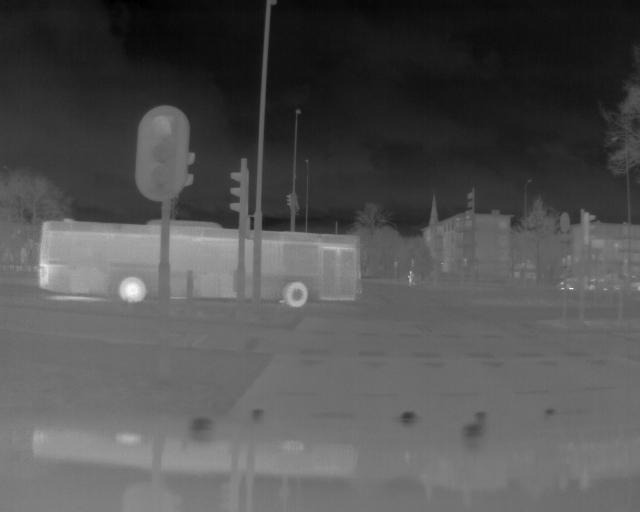car: (32, 213, 368, 311)
person: (404, 267, 417, 287)
